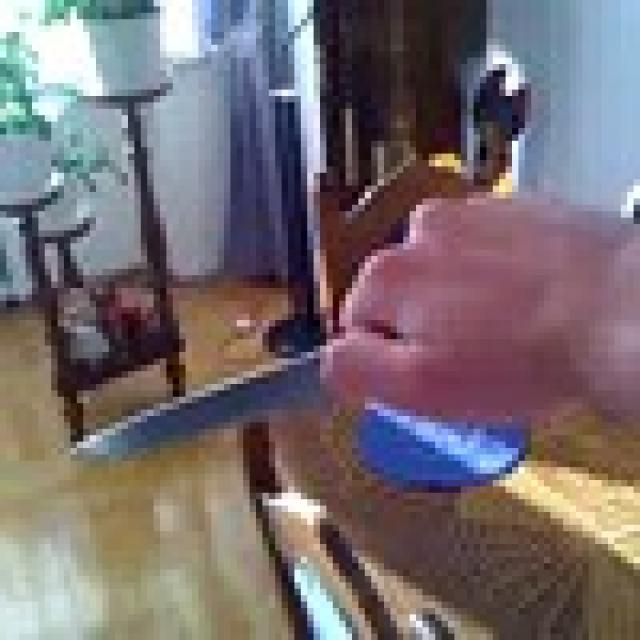Knife: (51, 314, 365, 480)
